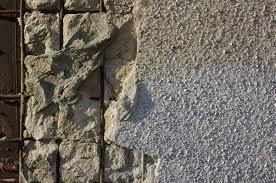exposed_rebar: (28, 0, 106, 48), (19, 0, 24, 182), (99, 59, 105, 182), (56, 138, 61, 183), (0, 136, 20, 143), (0, 94, 20, 99), (0, 178, 17, 183)
spalling: (0, 0, 159, 183)
